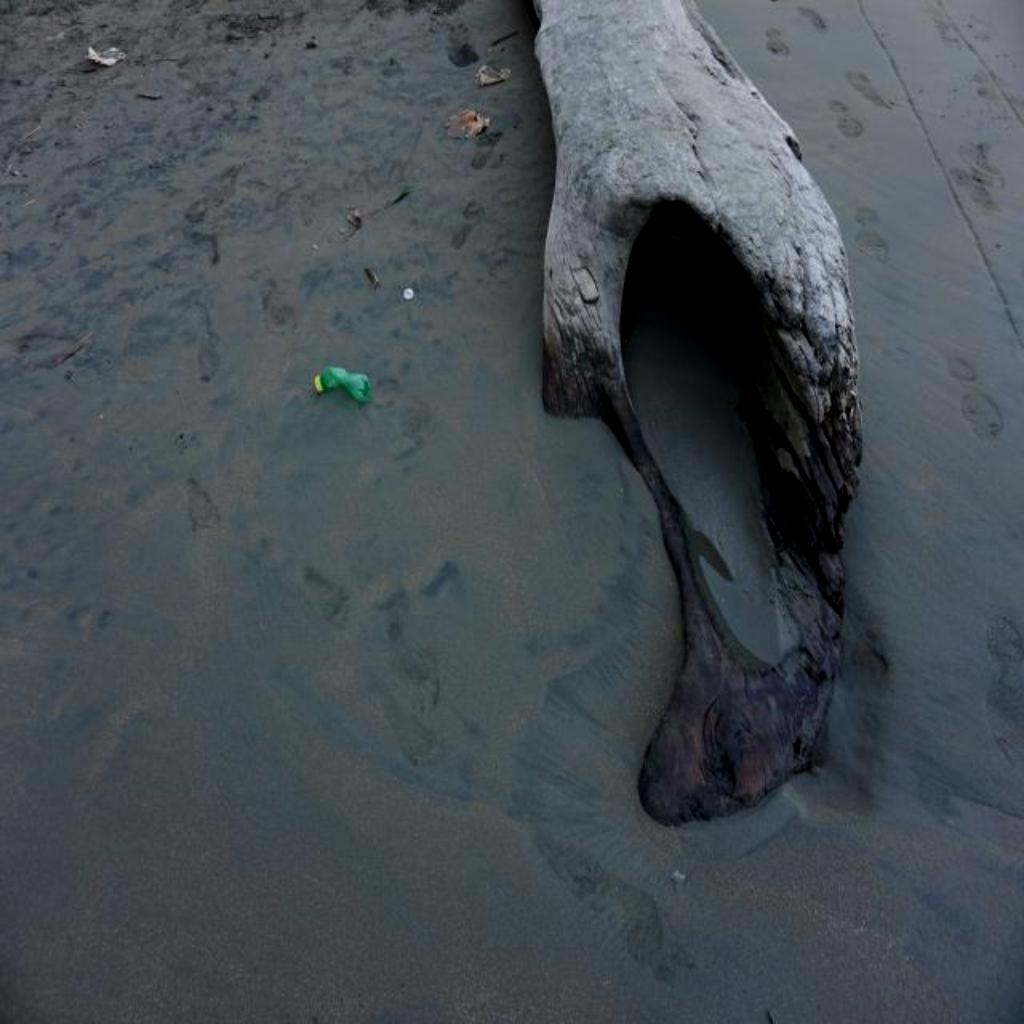garbage: (310, 358, 370, 401)
